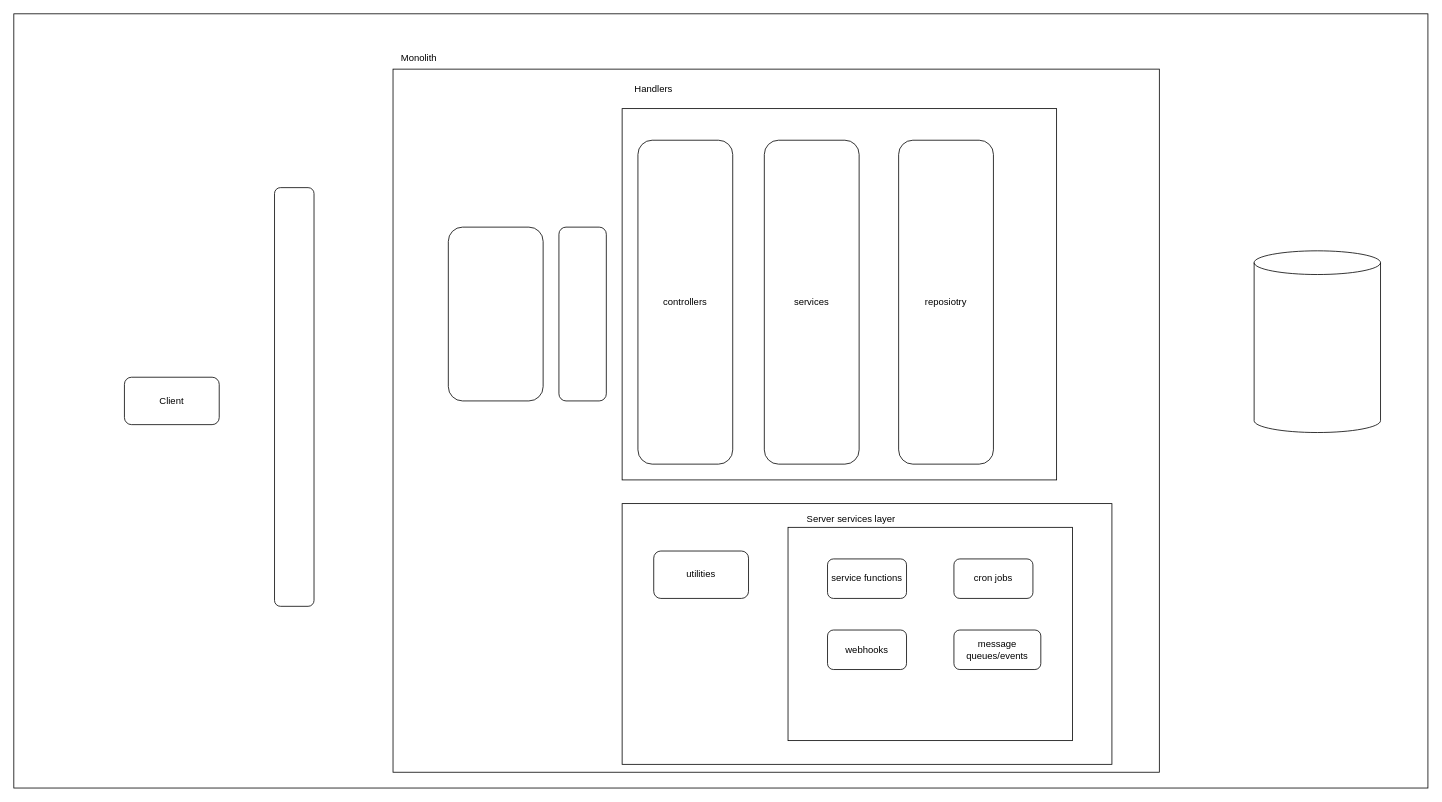
This 1442x802 diagram has some shape labels left out. Each missing label, with the box of its shape:
db: (1253, 250, 1381, 433)
gateway/loadbalancer: (274, 187, 314, 606)
Middlewares: (558, 226, 606, 401)
router layer: (448, 226, 543, 401)
